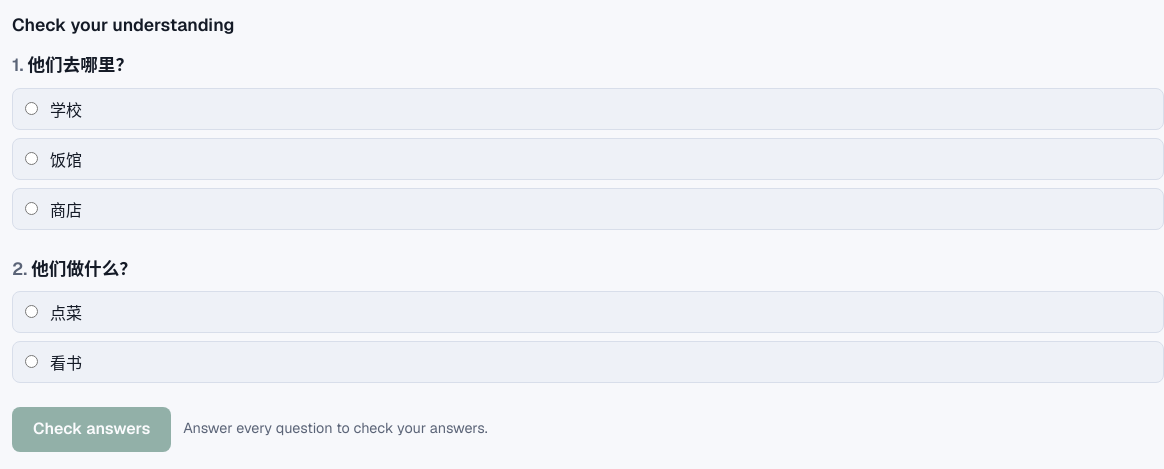
StoryQuiz › can't be checked until every question is answered
This screenshot has width=1164, height=469.
Check: the button "Check answers" is disabled, box [12,407,171,452]
Step 1. Click the radio button labelled "饭馆" → (32, 158), box [25,152,38,165]
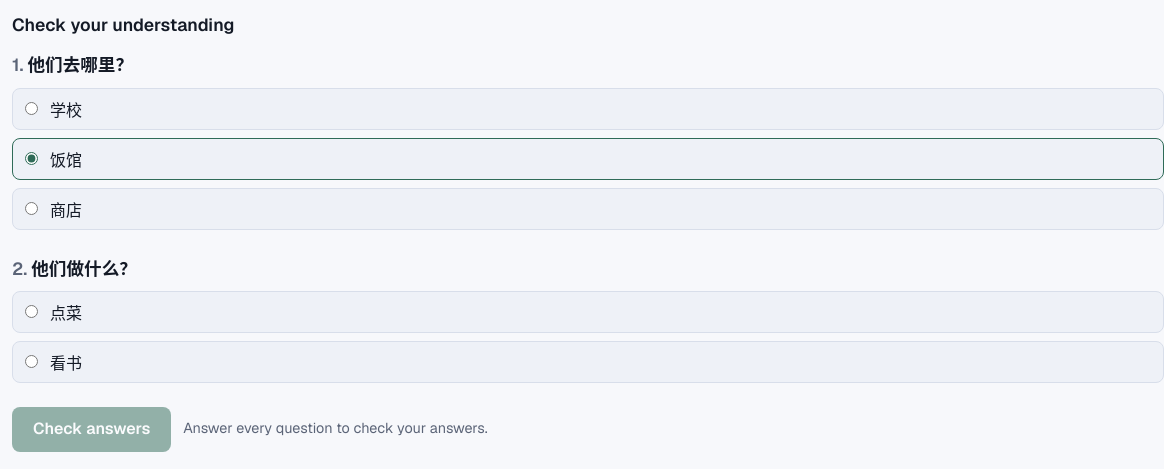
Check: the button "Check answers" is disabled, box [12,407,171,452]
Step 2. Click the radio button labelled "看书" → (32, 362), box [25,355,38,368]
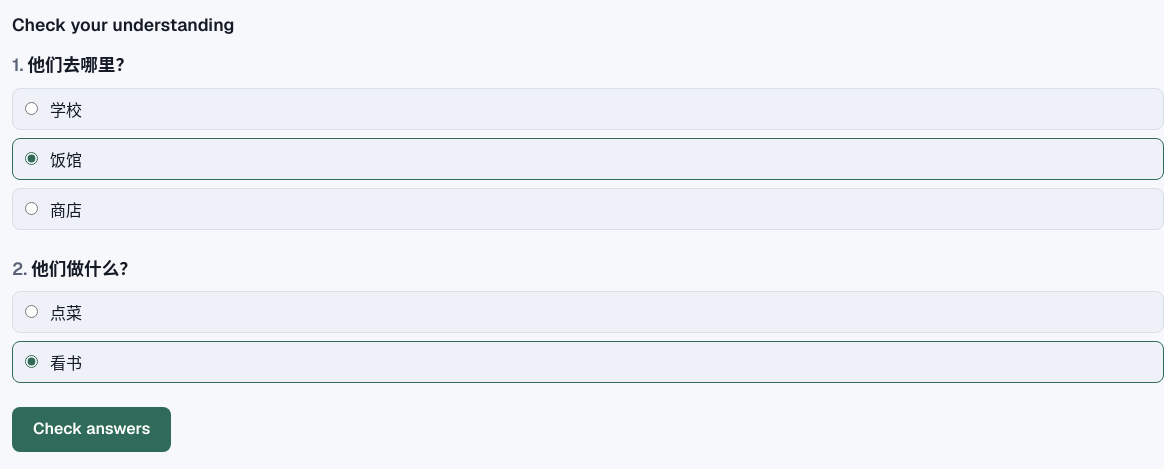
Check: the button "Check answers" is enabled, box [12,407,171,452]
